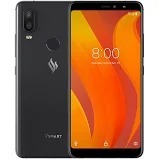vsmart: (65, 1, 143, 159), (15, 1, 69, 159)
